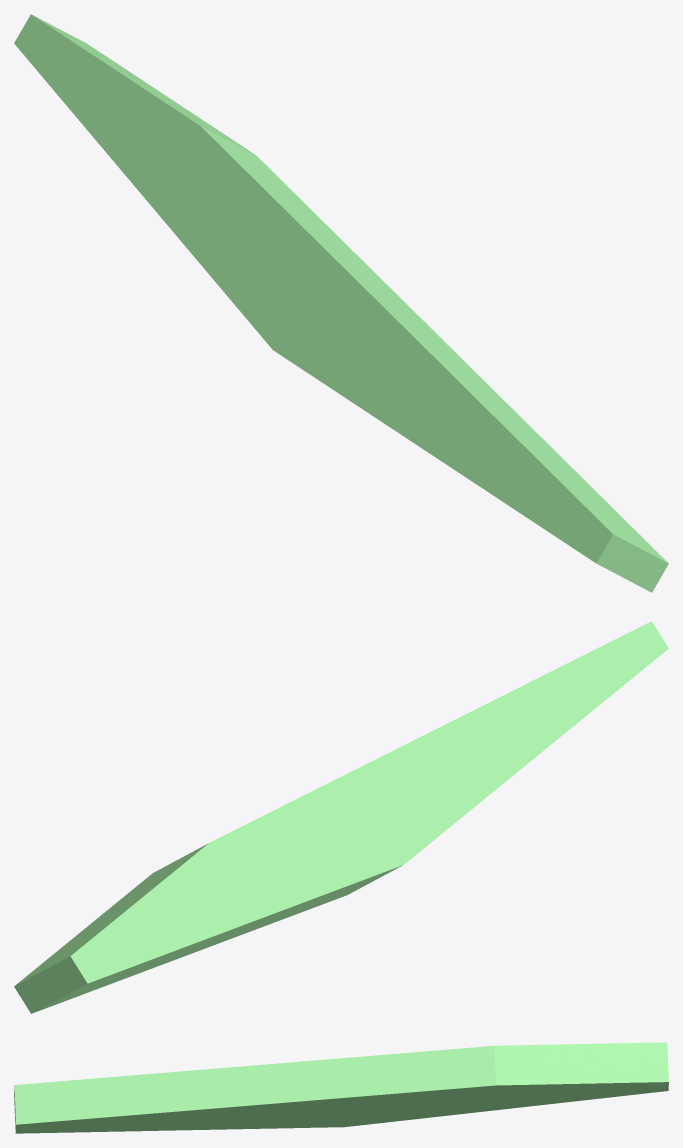
File: palle_scrotali_buone_Lp2_respondable_PSM1_coll_3.dae
3 views of the same model, one above another, from view 1: azimuth 30°, elevation 25°; view 2: azimuth 150°, elevation 25°; view 3: azimuth 270°, elevation 25° (orthographic). The views are drawn at different scales.
Parts seen in each view (by area): view 1: Node_000002334E243BC0; view 2: Node_000002334E243BC0; view 3: Node_000002334E243BC0.
Boxes of the visible parts, x1=… form: Node_000002334E243BC0: x1=14, y1=14, x2=668, y2=592; Node_000002334E243BC0: x1=14, y1=621, x2=668, y2=1013; Node_000002334E243BC0: x1=14, y1=1042, x2=668, y2=1133.
Bounding box in the file's own units: 0.0292 × 0.0347 × 0.2462.
